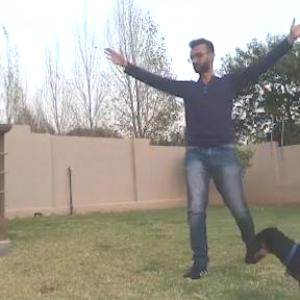takeoff: (67, 0, 299, 292)
